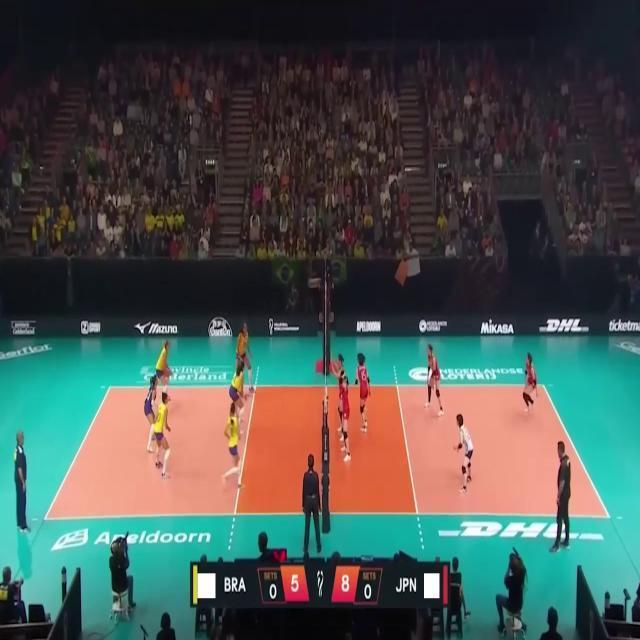volleyball: (306, 278, 324, 288)
